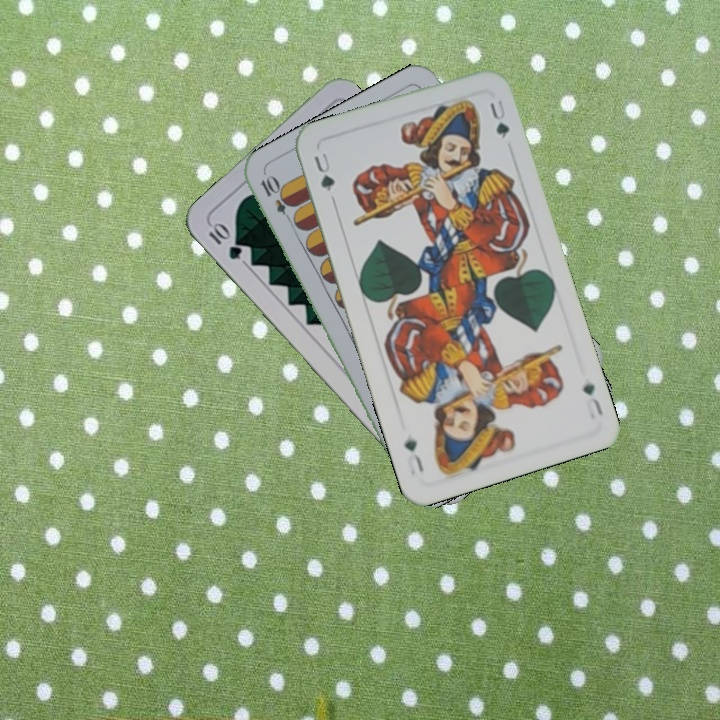E10: (256, 172, 297, 227)
G10: (204, 219, 245, 263)
GU: (309, 148, 338, 195), (578, 379, 606, 418)
